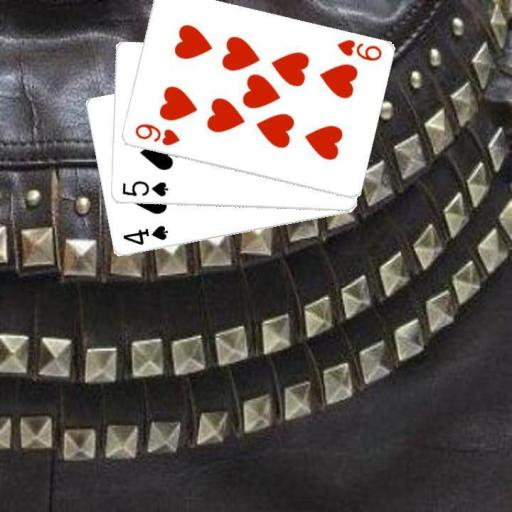card-corner: (334, 36, 384, 63), (132, 120, 180, 148), (120, 222, 170, 248), (118, 178, 169, 198)
